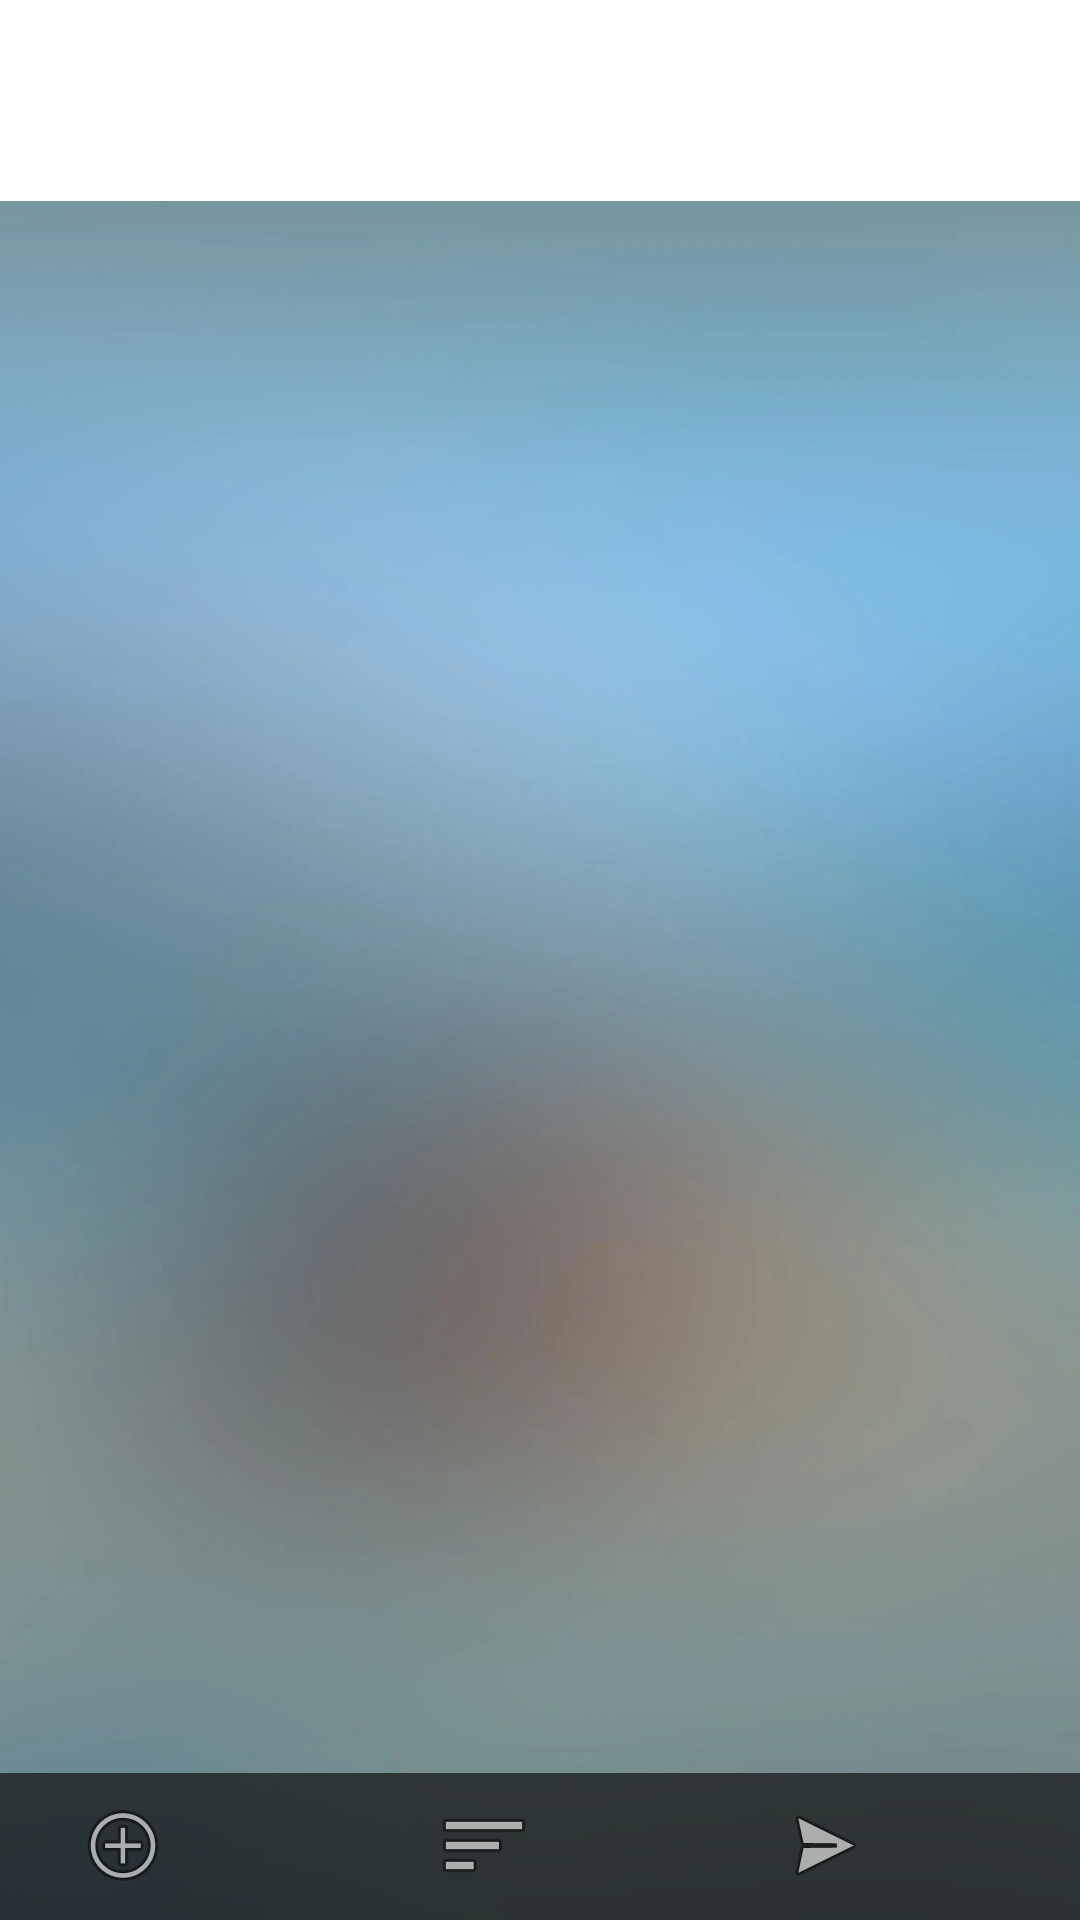

Screen size 1080 x 1920. Icon name, then its box in pixels as {"left": x1, "top": y1, "right": x2, "bottom": y2}:
add: {"left": 89, "top": 1812, "right": 157, "bottom": 1879}
send: {"left": 797, "top": 1817, "right": 855, "bottom": 1874}
sort by size: {"left": 444, "top": 1821, "right": 523, "bottom": 1871}
